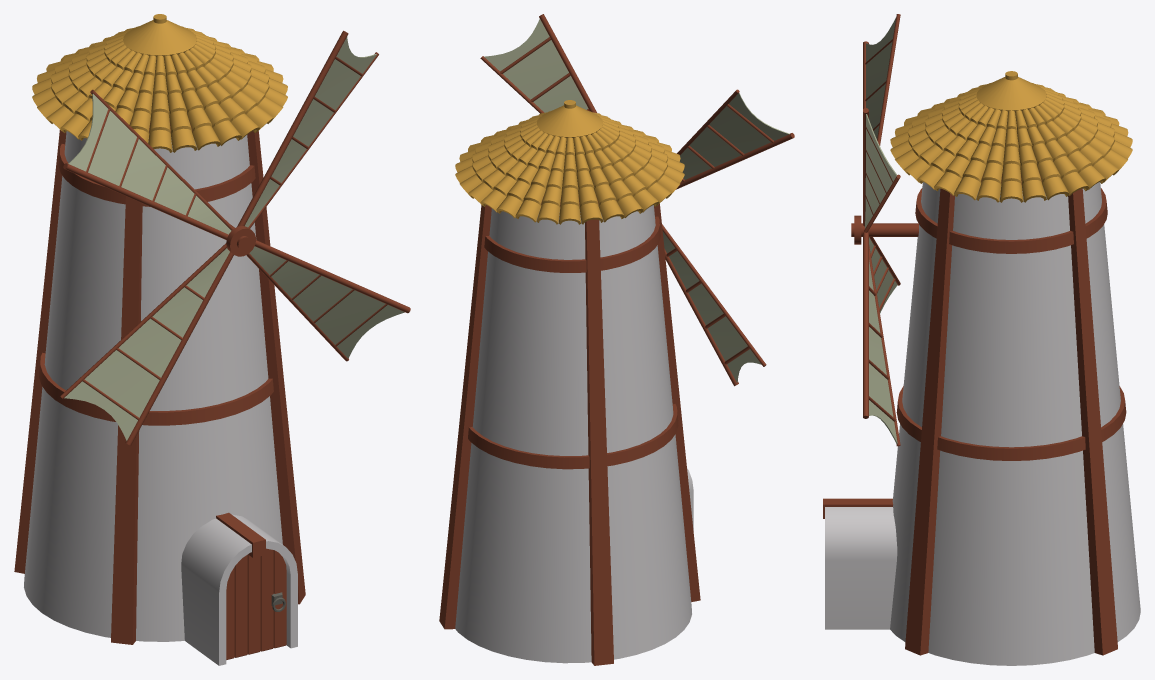
File: mill.fbx
The picture shows the model from 3 angles, left to right: view 1: azimuth 30°, elevation 25°; view 2: azimuth 150°, elevation 25°; view 3: azimuth 270°, elevation 25°; orthographic projection. The views are drawn at different scales.
Visible parts, largest first — view 1: Mill, Mill .001; view 2: Mill, Mill .001; view 3: Mill, Mill .001.
Boxes of the visible parts, x1=… form: Mill: x1=14, y1=14, x2=305, y2=665; Mill .001: x1=60, y1=30, x2=410, y2=445; Mill: x1=439, y1=100, x2=700, y2=665; Mill .001: x1=480, y1=14, x2=794, y2=386; Mill: x1=823, y1=71, x2=1140, y2=665; Mill .001: x1=851, y1=14, x2=918, y2=446.
Bounding box in the file's own units: 878 × 1417 × 737.
